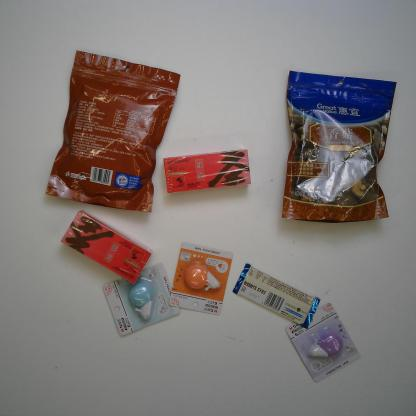Chocolate: (232, 262, 322, 331)
Dried Food: (44, 49, 183, 215), (279, 69, 399, 222)
Instant Drink: (56, 209, 153, 285), (162, 145, 254, 196)
Stationery: (281, 296, 364, 384), (100, 262, 181, 338), (167, 240, 236, 318)
